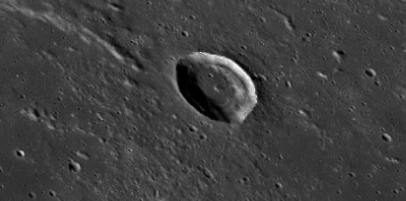crater: (147, 24, 302, 160)
